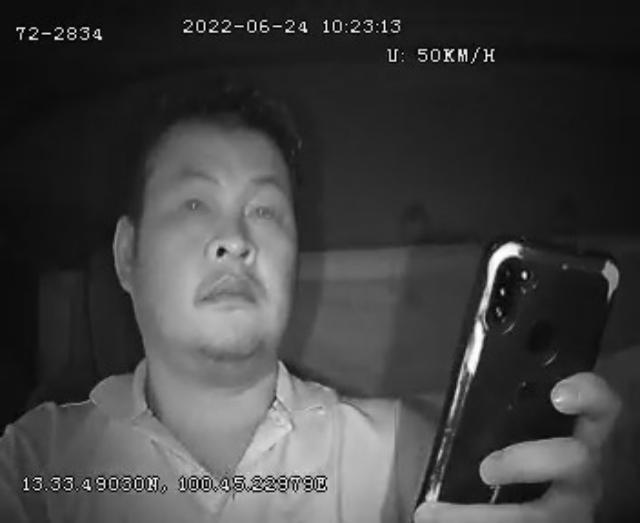PhoneUse: (410, 232, 622, 516)
SafeDriving: (172, 183, 216, 225), (243, 200, 282, 232)
